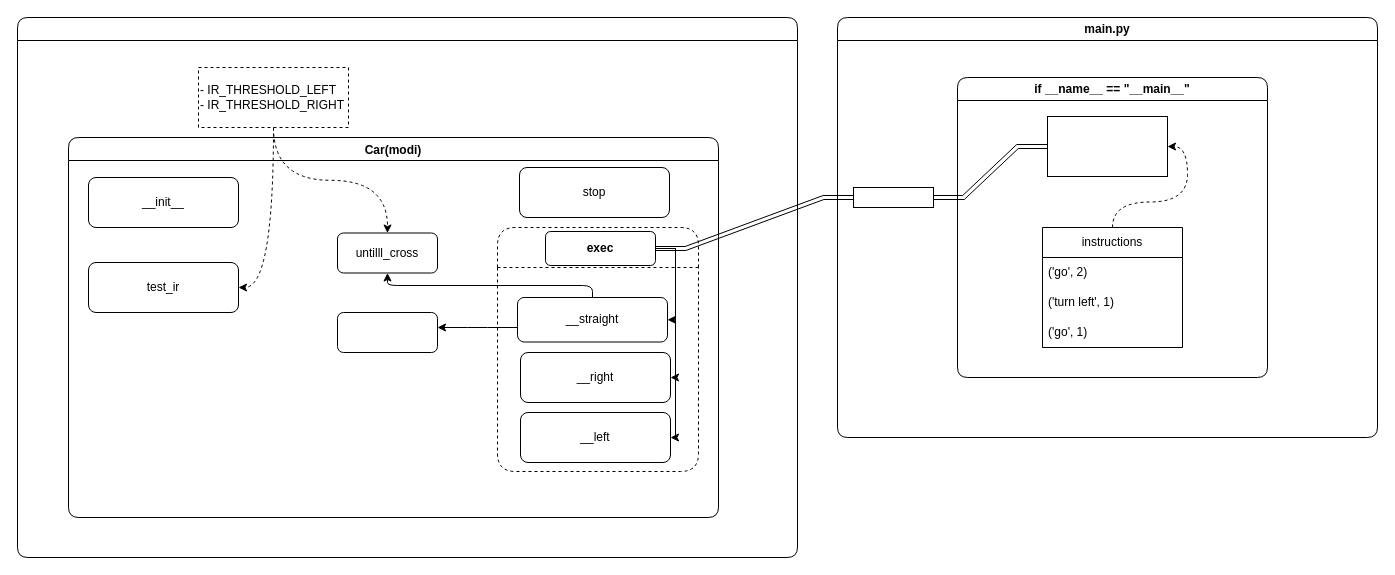
Image size: 1395x575. Some labels were removed from this diagram. Each missing label, with the centre of its shape:
"__init__.py" belongs at (x=407, y=287).
"after_cross" belongs at (x=387, y=332).
"car" belongs at (x=1107, y=146).
"instruction" belongs at (x=893, y=197).
